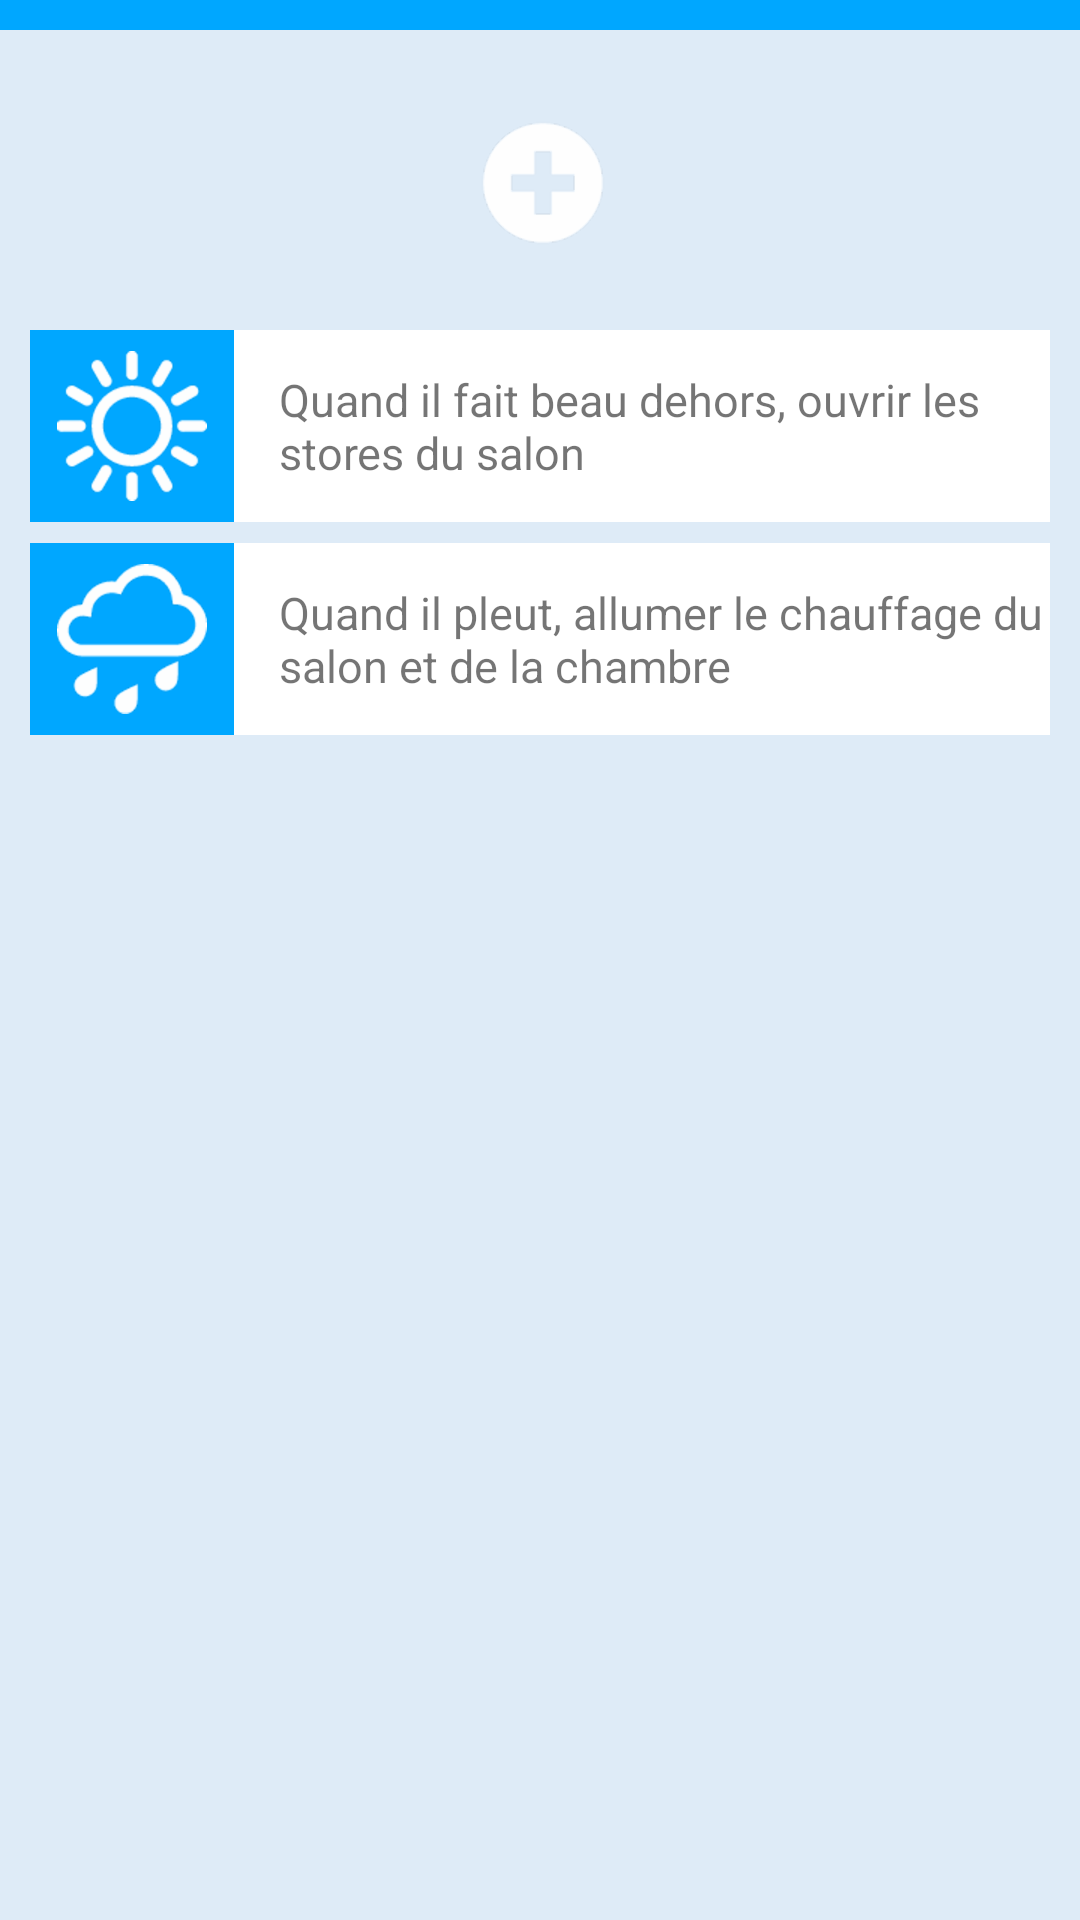

Where to tap for icons on this 1080×1920 app screen, as (x,y):
plus: (543,183)
rain: (132,639)
sun: (132,426)
